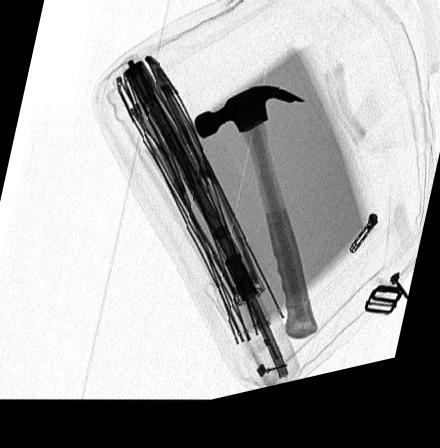Hammer: (193, 96, 319, 353)
